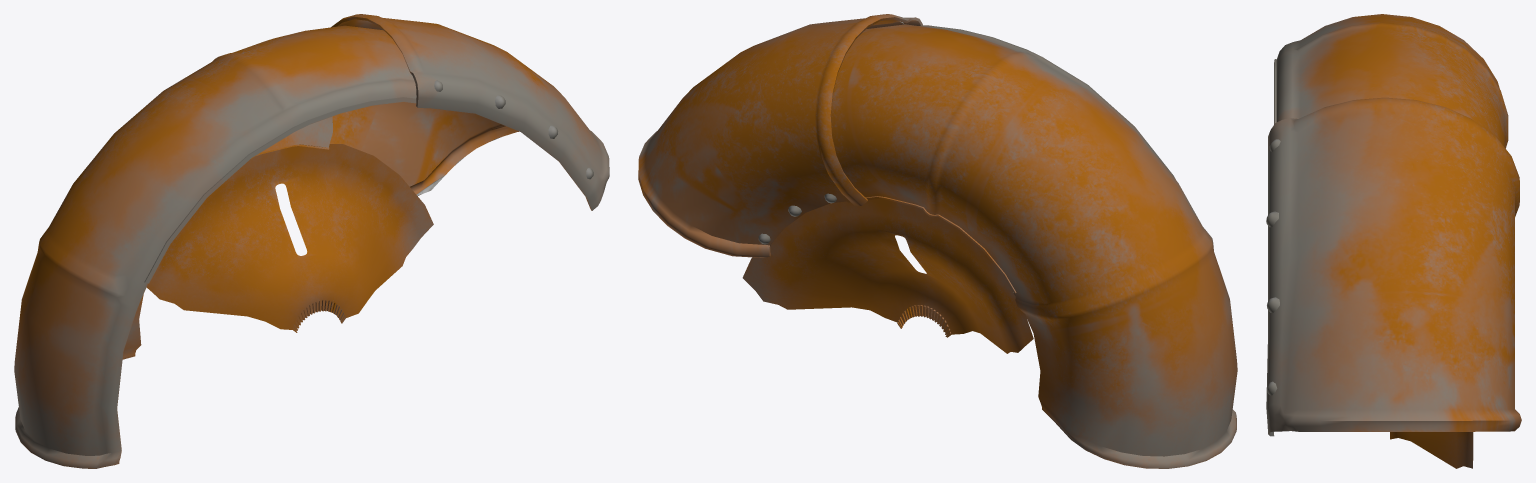
File: wheel_cover_R_F.dae
3 renders of one model, left to right at view 1: azimuth 30°, elevation 25°; view 2: azimuth 150°, elevation 25°; view 3: azimuth 270°, elevation 25°, orthographic. The views are drawn at different scales.
Visible parts, largest first — view 1: ApolloRoverRig__1.001_2; view 2: ApolloRoverRig__1.001_2; view 3: ApolloRoverRig__1.001_2.
Boxes of the visible parts, bbox=[...] form: ApolloRoverRig__1.001_2: bbox=[14, 14, 609, 468]; ApolloRoverRig__1.001_2: bbox=[638, 14, 1237, 468]; ApolloRoverRig__1.001_2: bbox=[1266, 14, 1521, 468].
Bounding box in the file's own units: 0.7987 × 0.2526 × 0.4622.
1 material, 1 textured.
